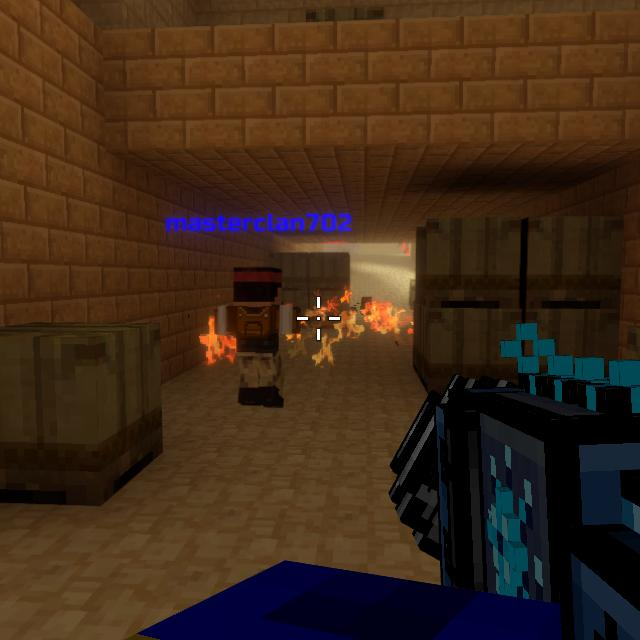Enemy: (402, 243, 411, 254)
